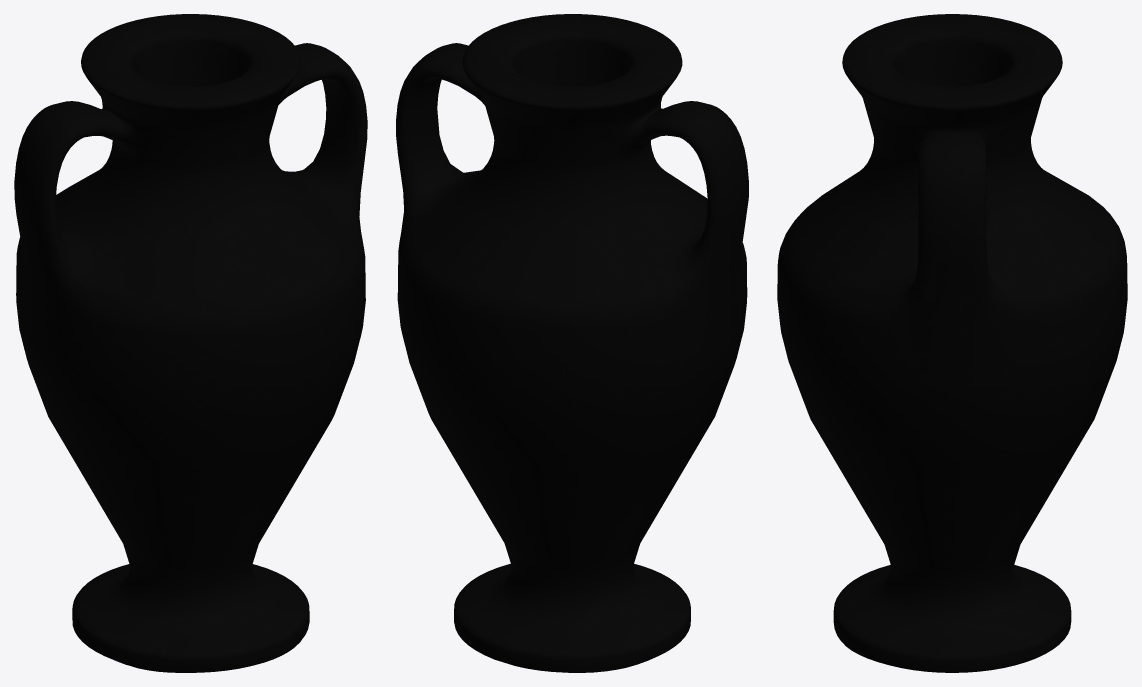
The model's file is amphora.glb.
3 renders of one model, left to right at view 1: azimuth 30°, elevation 25°; view 2: azimuth 150°, elevation 25°; view 3: azimuth 270°, elevation 25°, orthographic.
Parts seen in each view (by area): view 1: Cylinder; view 2: Cylinder; view 3: Cylinder.
Boxes of the visible parts, x1=… form: Cylinder: x1=14, y1=14, x2=367, y2=672; Cylinder: x1=396, y1=14, x2=748, y2=672; Cylinder: x1=777, y1=14, x2=1127, y2=672.
Bounding box in the file's own units: 1.9 × 3.09 × 1.73.
Materials: 1 (1 with a texture image).
